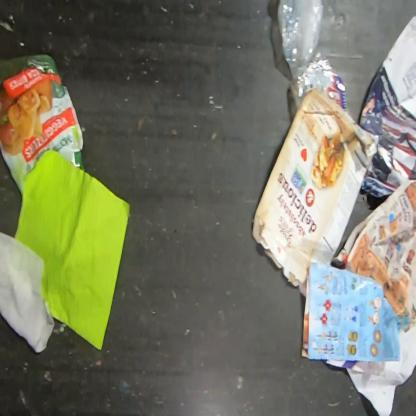cardboard: (252, 87, 379, 288)
rigid_plastic: (277, 0, 336, 111)
soft_plastic: (0, 55, 85, 200)
